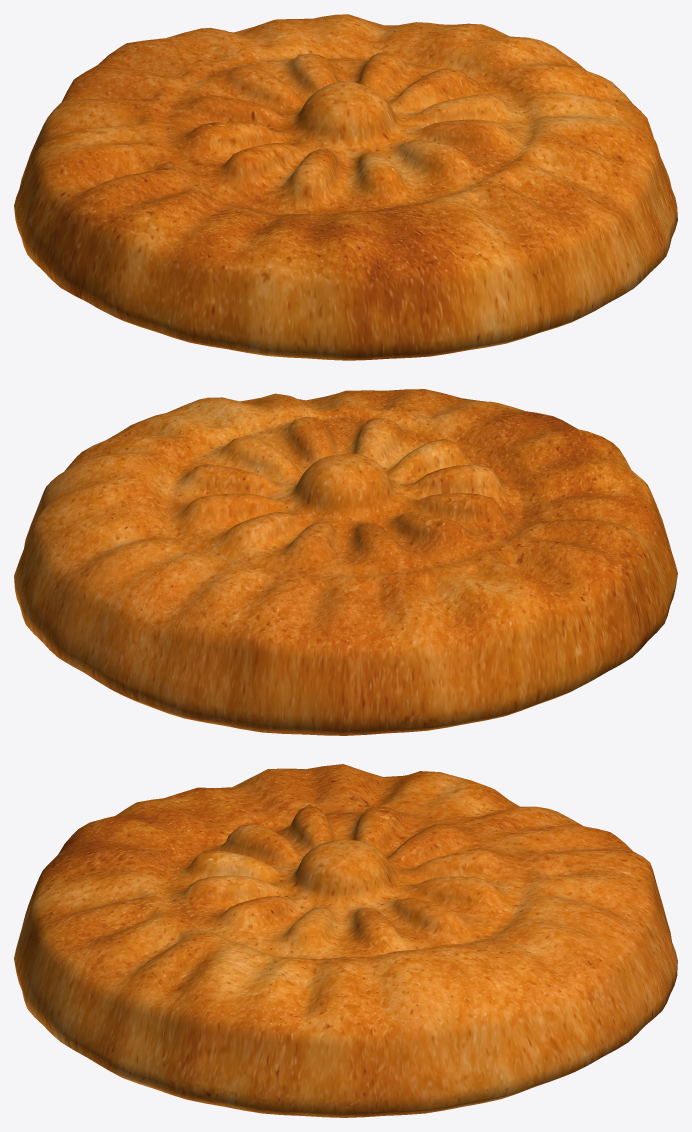
The model's file is date-cookies.glb.
The picture shows the model from 3 angles, top to bottom: view 1: azimuth 30°, elevation 25°; view 2: azimuth 150°, elevation 25°; view 3: azimuth 270°, elevation 25°; orthographic projection.
Parts seen in each view (by area): view 1: Cookei; view 2: Cookei; view 3: Cookei.
Part boxes in pixels (x1=…): Cookei: x1=14, y1=14, x2=677, y2=360; Cookei: x1=14, y1=389, x2=677, y2=735; Cookei: x1=14, y1=764, x2=677, y2=1117.
Bounding box in the file's own units: 1.03 × 0.2529 × 1.03.
1 material, 1 textured.
